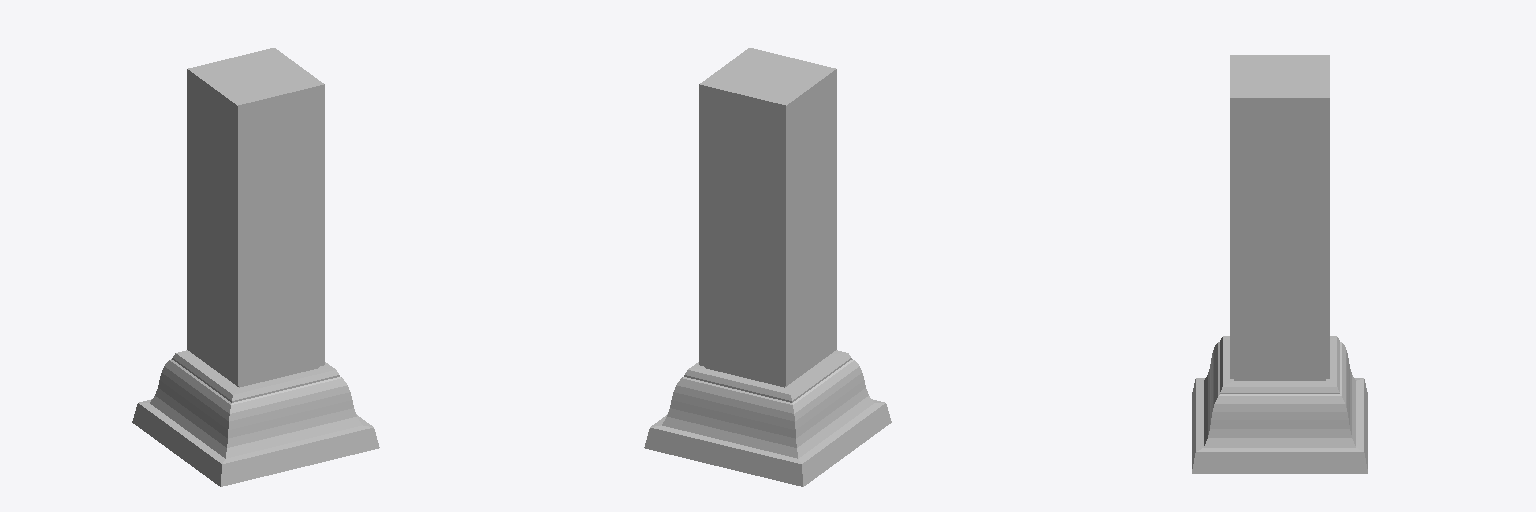
The model's file is plinth.obj.
The picture shows the model from 3 angles: view 1: azimuth 30°, elevation 25°; view 2: azimuth 150°, elevation 25°; view 3: azimuth 270°, elevation 25°; orthographic projection.
Parts seen in each view (by area): view 1: pCube2; view 2: pCube2; view 3: pCube2.
Boxes of the visible parts, x1,y1,x2,y2 form: pCube2: [132, 48, 379, 486]; pCube2: [644, 48, 891, 486]; pCube2: [1192, 55, 1367, 473].
Size of the model in its own units: 1.05 by 2.25 by 1.01.